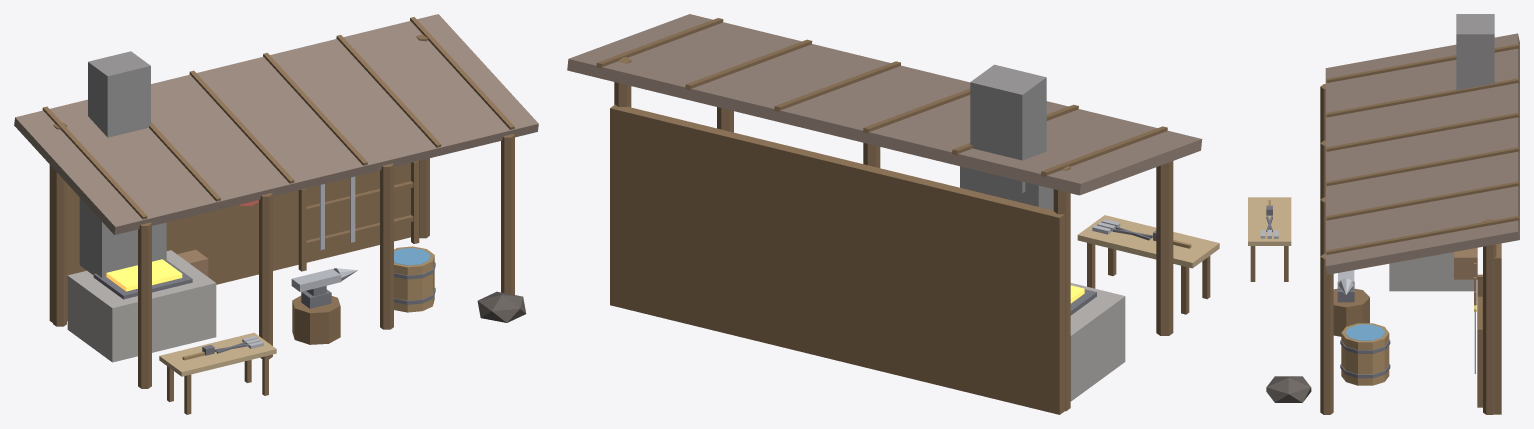
Rendered from Blacksmith.glb.
The picture shows the model from 3 angles, left to right: view 1: azimuth 30°, elevation 25°; view 2: azimuth 150°, elevation 25°; view 3: azimuth 270°, elevation 25°; orthographic projection. The views are drawn at different scales.
Visible parts, largest first — view 1: Blacksmith_Roof, Blacksmith_BackWall, Blacksmith_ForgeBase, Blacksmith_Chimney, Blacksmith_Hood, Blacksmith_PostF.002, Blacksmith_PostF, Blacksmith_Bench, Blacksmith_PostF.003, Blacksmith_PostB, Blacksmith_PostF.001, Blacksmith_Stump (+17 smaller); view 2: Blacksmith_BackWall, Blacksmith_Roof, Blacksmith_Chimney, Blacksmith_ForgeBase, Blacksmith_PostF, Blacksmith_Bench, Blacksmith_PostB, Blacksmith_Hood, Blacksmith_RoofLine.004, Blacksmith_RoofLine.003, Blacksmith_RoofLine, Blacksmith_RoofLine.005 (+1 smaller); view 3: Blacksmith_Roof, Blacksmith_Chimney, Blacksmith_ForgeBase, Blacksmith_PostF.003, Blacksmith_WaterBarrel, Blacksmith_Bench, Blacksmith_PostB.001, Blacksmith_BackWall, Blacksmith_Stump, Blacksmith_CoalPile, Blacksmith_RoofLine.002, Blacksmith_RoofLine.003 (+10 smaller).
Part boxes in pixels (x1=…): Blacksmith_Roof: x1=14, y1=14, x2=538, y2=234; Blacksmith_BackWall: x1=49, y1=163, x2=410, y2=322; Blacksmith_ForgeBase: x1=67, y1=250, x2=216, y2=362; Blacksmith_Chimney: x1=88, y1=51, x2=150, y2=137; Blacksmith_Hood: x1=79, y1=197, x2=166, y2=277; Blacksmith_PostF.002: x1=380, y1=163, x2=393, y2=329; Blacksmith_PostF: x1=138, y1=222, x2=151, y2=388; Blacksmith_Bench: x1=159, y1=332, x2=276, y2=376; Blacksmith_PostF.003: x1=501, y1=134, x2=514, y2=294; Blacksmith_PostB: x1=53, y1=122, x2=66, y2=326; Blacksmith_PostF.001: x1=259, y1=193, x2=272, y2=359; Blacksmith_Stump: x1=292, y1=295, x2=340, y2=344; Blacksmith_BackWall: x1=610, y1=104, x2=1064, y2=414; Blacksmith_Roof: x1=567, y1=14, x2=1202, y2=195; Blacksmith_Chimney: x1=970, y1=64, x2=1046, y2=193; Blacksmith_ForgeBase: x1=1070, y1=283, x2=1125, y2=401; Blacksmith_PostF: x1=1156, y1=161, x2=1173, y2=335; Blacksmith_Bench: x1=1077, y1=215, x2=1219, y2=268; Blacksmith_PostB: x1=1053, y1=164, x2=1070, y2=411; Blacksmith_Hood: x1=960, y1=166, x2=1053, y2=210; Blacksmith_RoofLine.004: x1=685, y1=39, x2=812, y2=90; Blacksmith_RoofLine.003: x1=774, y1=61, x2=900, y2=111; Blacksmith_RoofLine: x1=1041, y1=126, x2=1167, y2=176; Blacksmith_RoofLine.005: x1=596, y1=18, x2=723, y2=68; Blacksmith_Roof: x1=1325, y1=33, x2=1519, y2=274; Blacksmith_Chimney: x1=1456, y1=14, x2=1494, y2=90; Blacksmith_ForgeBase: x1=1389, y1=252, x2=1473, y2=291; Blacksmith_PostF.003: x1=1320, y1=254, x2=1333, y2=414; Blacksmith_WaterBarrel: x1=1341, y1=323, x2=1389, y2=385; Blacksmith_Bench: x1=1248, y1=197, x2=1291, y2=245; Blacksmith_PostB.001: x1=1483, y1=219, x2=1496, y2=414; Blacksmith_BackWall: x1=1493, y1=243, x2=1501, y2=414; Blacksmith_Stump: x1=1333, y1=288, x2=1369, y2=336; Blacksmith_CoalPile: x1=1266, y1=376, x2=1311, y2=402; Blacksmith_RoofLine.002: x1=1326, y1=112, x2=1519, y2=151; Blacksmith_RoofLine.003: x1=1326, y1=147, x2=1519, y2=186.
Size of the model in its own units: 9.8 by 5.62 by 5.68.
